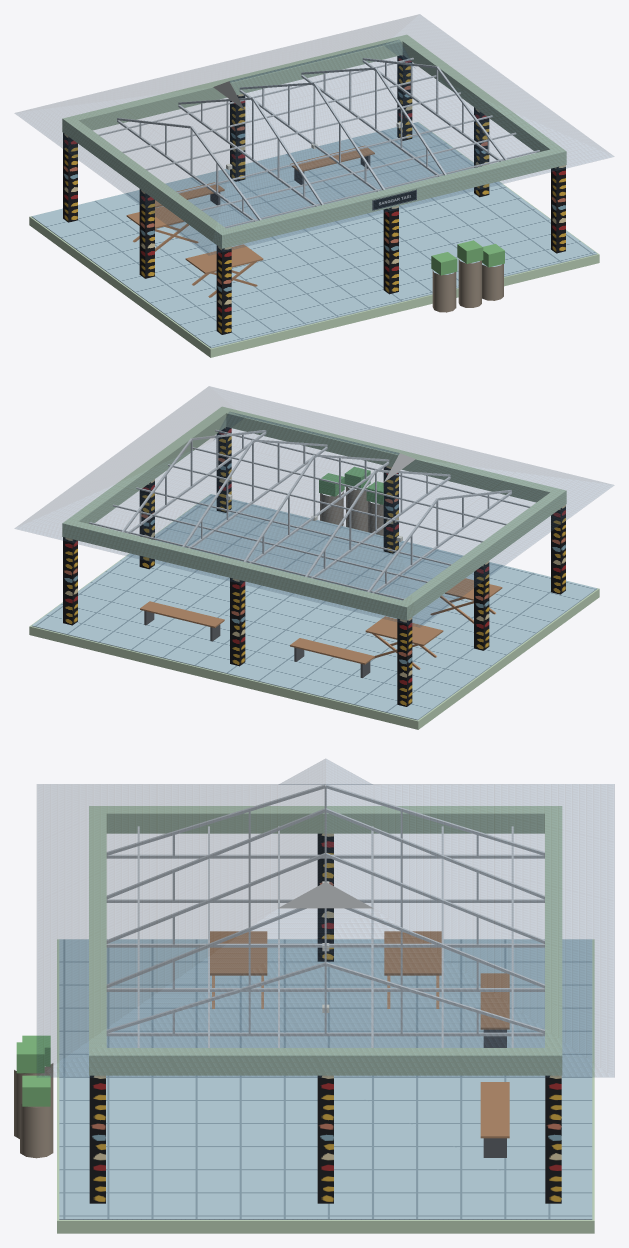
The model's file is sanggar_tari_cutaway.glb.
3 renders of one model, top to bottom at view 1: azimuth 30°, elevation 25°; view 2: azimuth 150°, elevation 25°; view 3: azimuth 270°, elevation 25°, orthographic. The views are drawn at different scales.
Parts seen in each view (by area): view 1: Atap_Limasan_Biru_Tua, Lantai_Keramik_Biru_Muda, Ring_Balok_Hijau_Sage, Rangka_Baja_Ringan_Atap, Tiang_Mozaik_Warna_Warni, Meja_XFrame_Dan_Bangku_Kayu, Pot_Batang_Kayu_Depan, Tanaman_Pot_Hijau, Papan_Sanggar_Tari; view 2: Atap_Limasan_Biru_Tua, Lantai_Keramik_Biru_Muda, Ring_Balok_Hijau_Sage, Rangka_Baja_Ringan_Atap, Tiang_Mozaik_Warna_Warni, Meja_XFrame_Dan_Bangku_Kayu, Pot_Batang_Kayu_Depan, Tanaman_Pot_Hijau, Rangka_Bangku_Besi; view 3: Atap_Limasan_Biru_Tua, Lantai_Keramik_Biru_Muda, Ring_Balok_Hijau_Sage, Rangka_Baja_Ringan_Atap, Tiang_Mozaik_Warna_Warni, Meja_XFrame_Dan_Bangku_Kayu, Pot_Batang_Kayu_Depan, Tanaman_Pot_Hijau, Rangka_Bangku_Besi.
Part boxes in pixels (x1,y1,x2,y2): Atap_Limasan_Biru_Tua: (15, 14, 613, 255); Lantai_Keramik_Biru_Muda: (31, 122, 597, 348); Ring_Balok_Hijau_Sage: (29, 34, 599, 357); Rangka_Baja_Ringan_Atap: (98, 57, 539, 228); Tiang_Mozaik_Warna_Warni: (63, 55, 565, 334); Meja_XFrame_Dan_Bangku_Kayu: (126, 145, 374, 297); Pot_Batang_Kayu_Depan: (432, 259, 503, 312); Tanaman_Pot_Hijau: (431, 240, 504, 275); Papan_Sanggar_Tari: (372, 189, 416, 210); Atap_Limasan_Biru_Tua: (15, 386, 613, 627); Lantai_Keramik_Biru_Muda: (31, 494, 597, 720); Ring_Balok_Hijau_Sage: (29, 406, 599, 729); Rangka_Baja_Ringan_Atap: (89, 429, 530, 600); Tiang_Mozaik_Warna_Warni: (63, 427, 565, 706); Meja_XFrame_Dan_Bangku_Kayu: (140, 578, 502, 669); Pot_Batang_Kayu_Depan: (320, 485, 383, 535); Tanaman_Pot_Hijau: (319, 466, 383, 504); Rangka_Bangku_Besi: (144, 611, 370, 677); Atap_Limasan_Biru_Tua: (37, 759, 614, 1077); Lantai_Keramik_Biru_Muda: (59, 939, 592, 1219); Ring_Balok_Hijau_Sage: (57, 806, 594, 1233); Rangka_Baja_Ringan_Atap: (106, 784, 544, 1047); Tiang_Mozaik_Warna_Warni: (89, 833, 561, 1203); Meja_XFrame_Dan_Bangku_Kayu: (210, 931, 509, 1138); Pot_Batang_Kayu_Depan: (14, 1063, 53, 1158); Tanaman_Pot_Hijau: (16, 1035, 50, 1106); Rangka_Bangku_Besi: (483, 1029, 506, 1157).
Bounding box in the file's own units: 11.9 × 5.15 × 10.29.
Materials: 11 (4 with a texture image).
